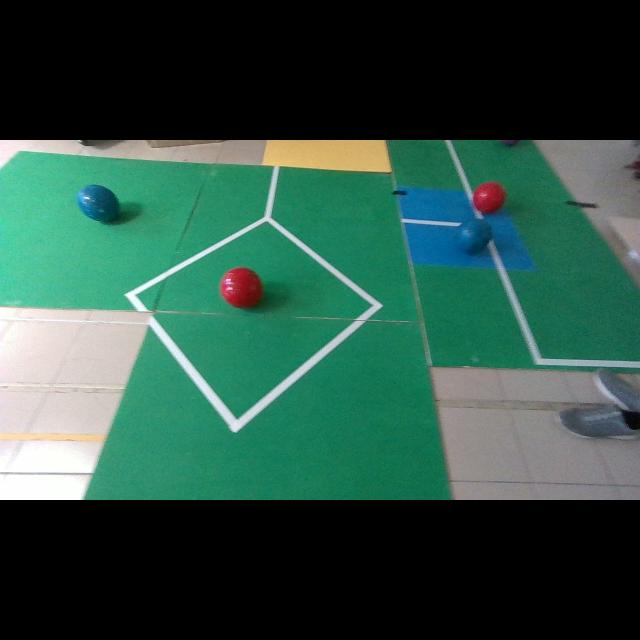B: (78, 185, 119, 221), (456, 219, 492, 254)
R: (220, 268, 262, 308), (472, 181, 506, 214)
